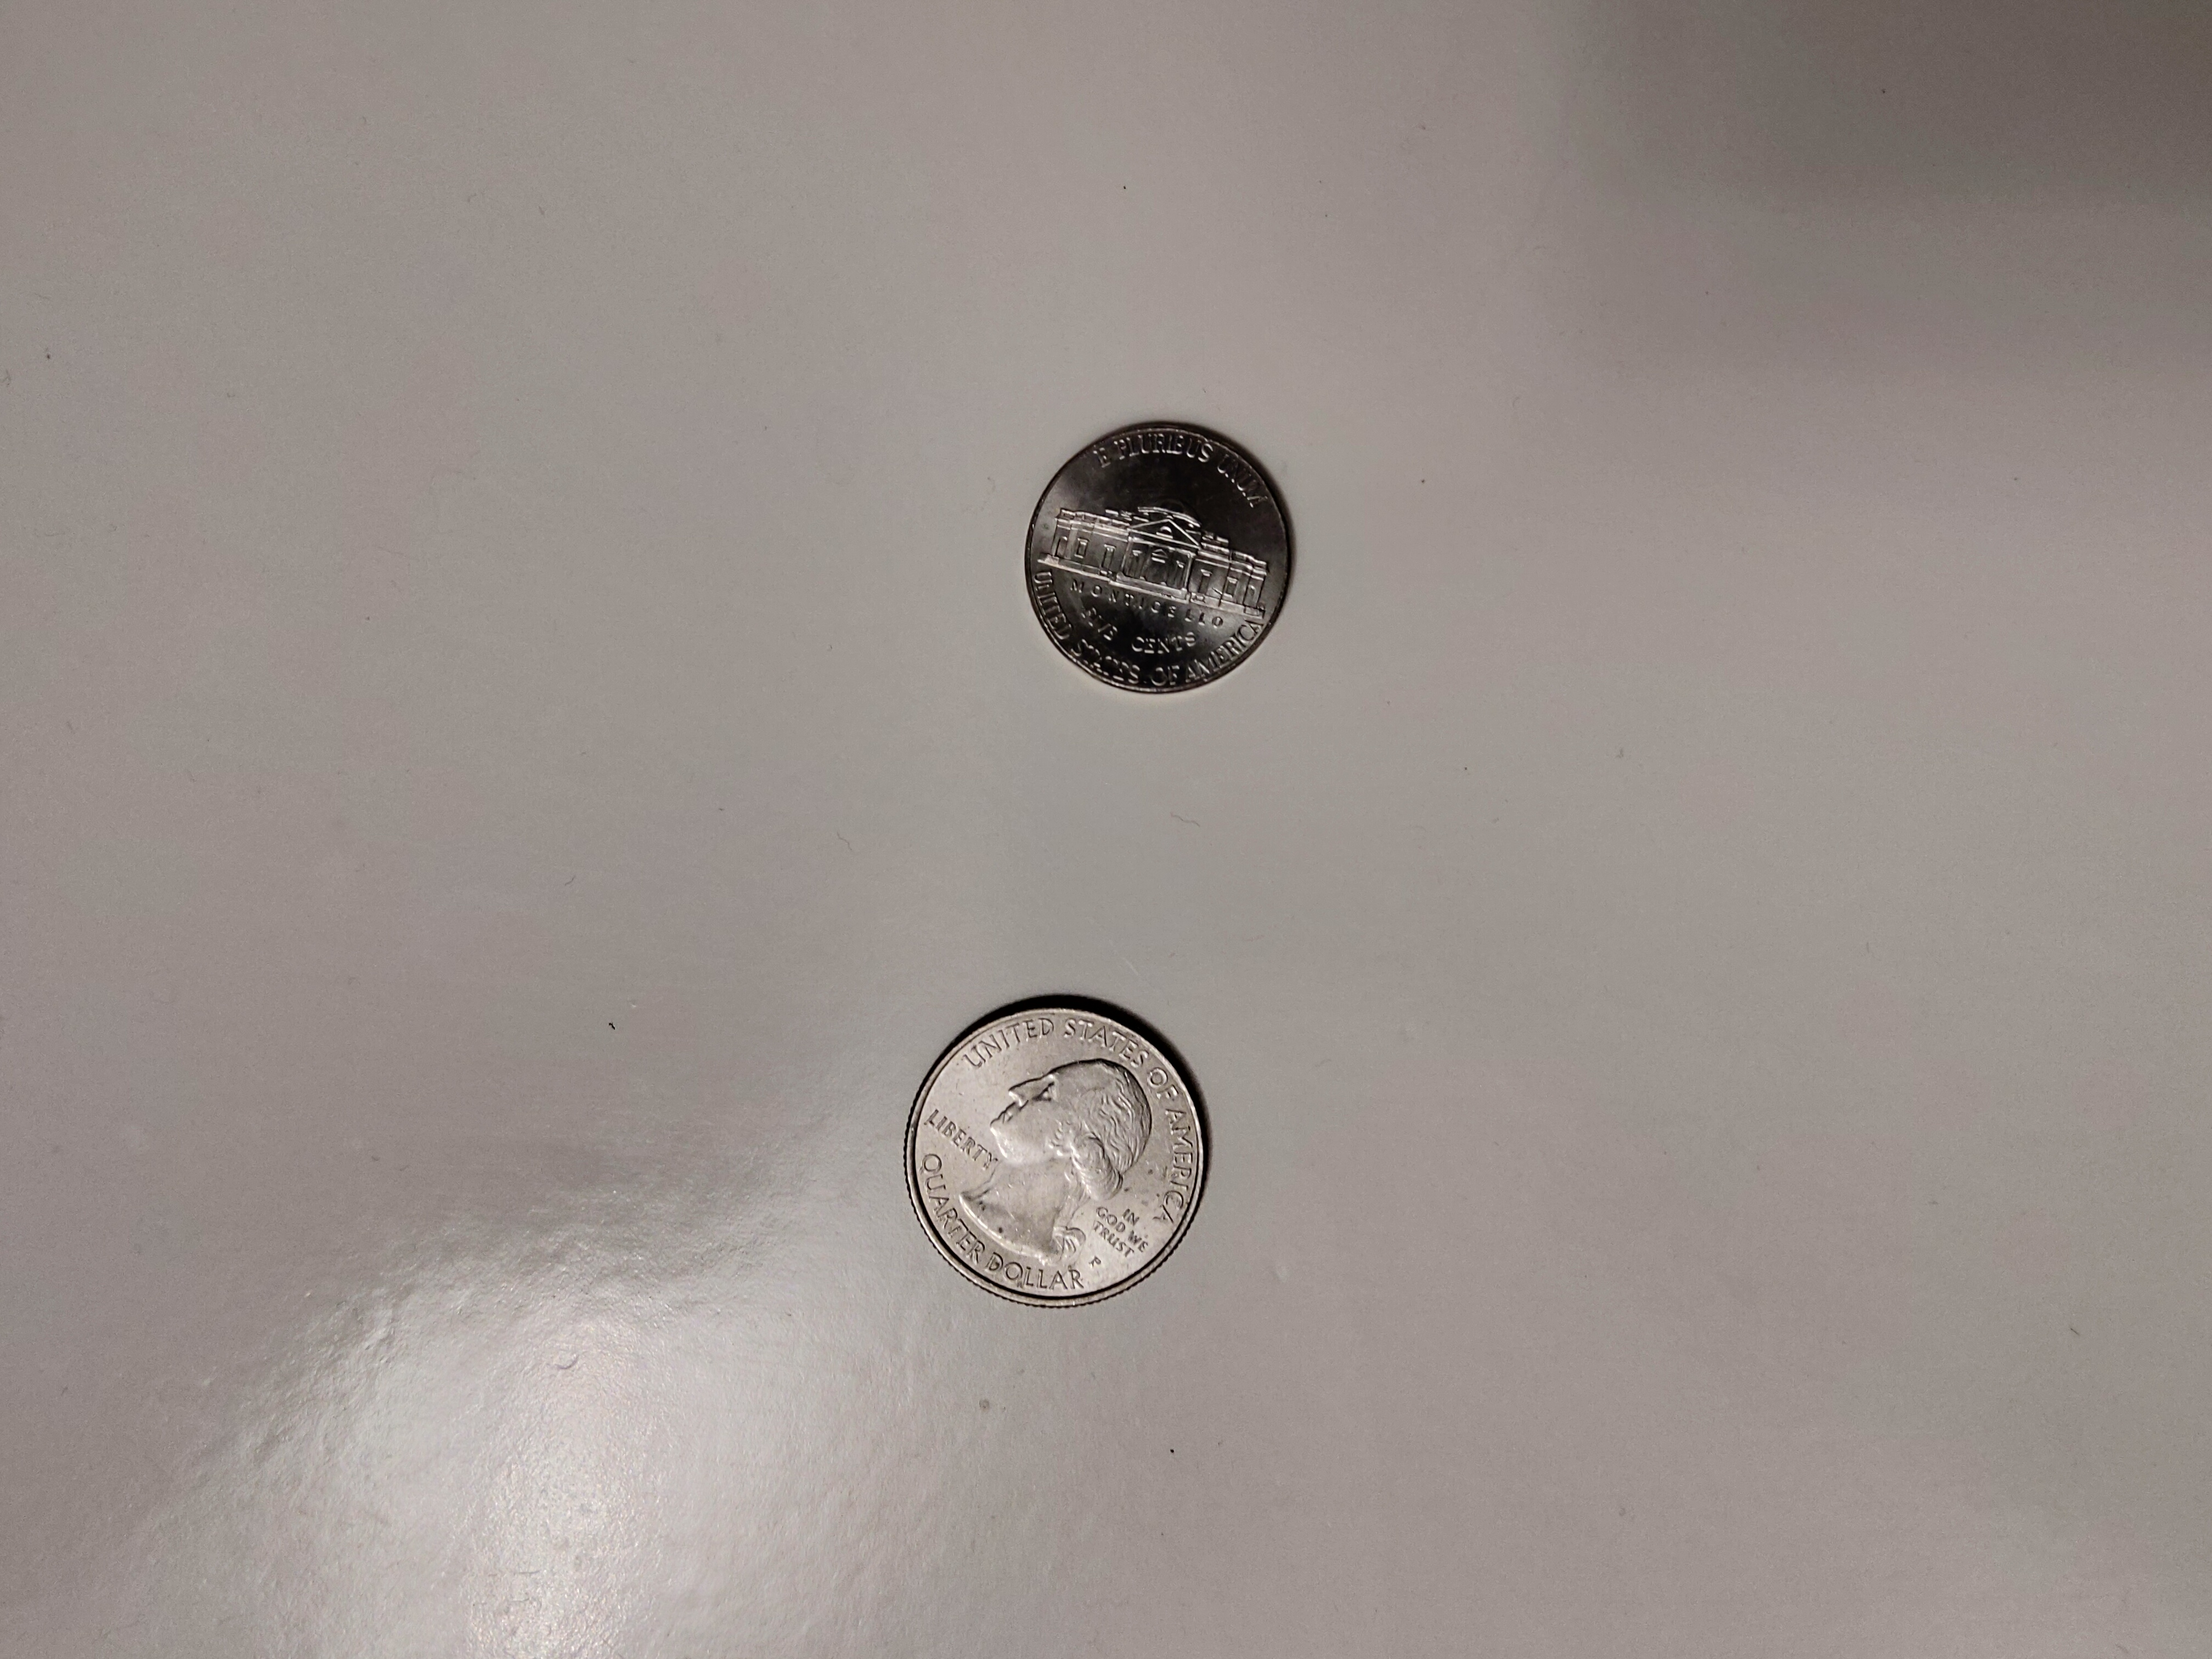Nickel: (1022, 418, 1298, 694)
Quarter: (902, 993, 1212, 1307)
